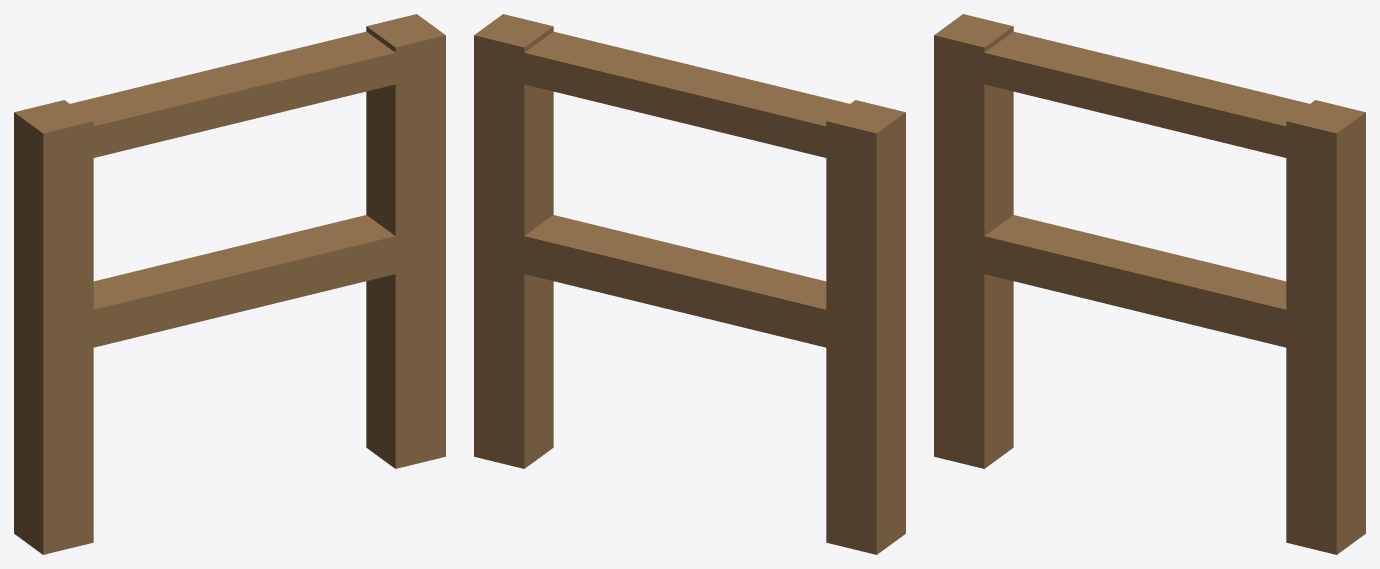
The picture shows the model from 3 angles, left to right: view 1: azimuth 30°, elevation 25°; view 2: azimuth 150°, elevation 25°; view 3: azimuth 330°, elevation 25°; orthographic projection.
Visible parts, largest first — view 1: drying-rack-a@1.0.0; view 2: drying-rack-a@1.0.0; view 3: drying-rack-a@1.0.0.
Boxes of the visible parts, x1=… form: drying-rack-a@1.0.0: x1=14, y1=14, x2=445, y2=554; drying-rack-a@1.0.0: x1=474, y1=14, x2=905, y2=554; drying-rack-a@1.0.0: x1=934, y1=14, x2=1365, y2=554.
Bounding box in the file's own units: 2 × 2 × 0.25.
